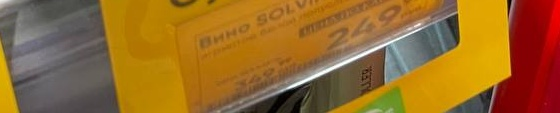1d: (206, 43, 354, 113)
